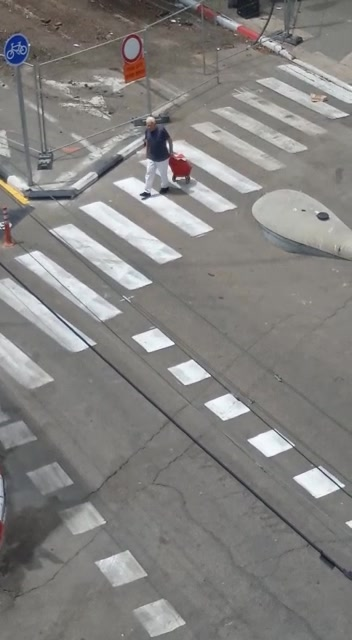crosswalk: (31, 40, 280, 327)
person: (130, 103, 195, 213)
